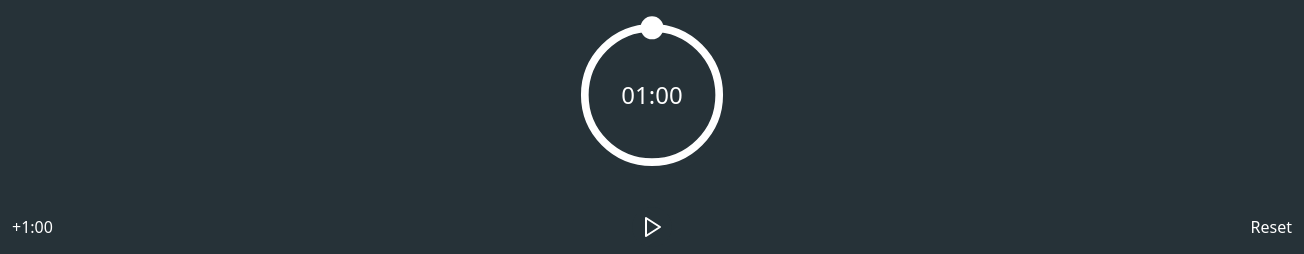
Test case: Timer Component › should update the minute input value
The width and height of the screenshot is (1304, 254).
Replace the text in the field named "Minutes" with "2" at (629, 95), box [609,79,649,111]
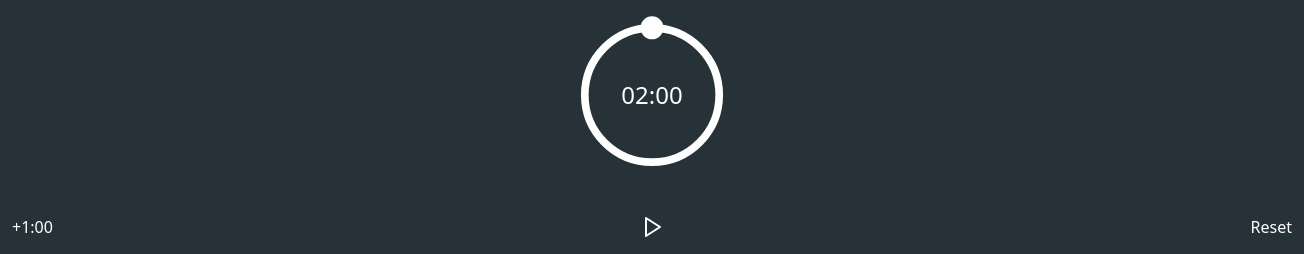
Expected: the field named "Minutes" holds "02", [609,79,649,111]
